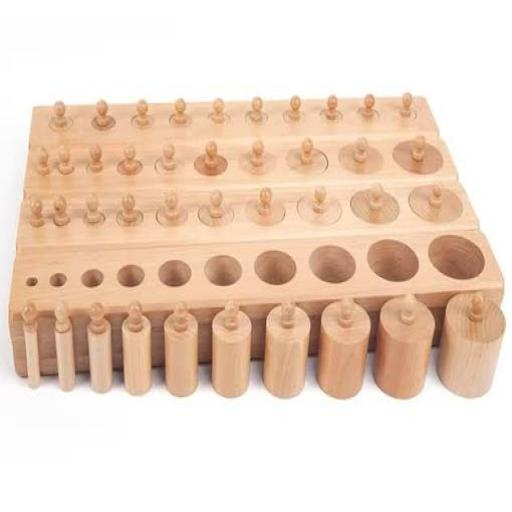pink tower: (4, 85, 506, 401)
